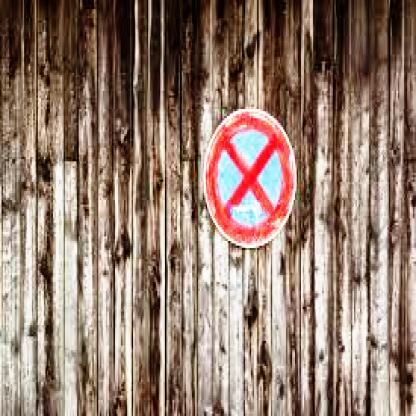No stopping: (204, 102, 304, 257)
